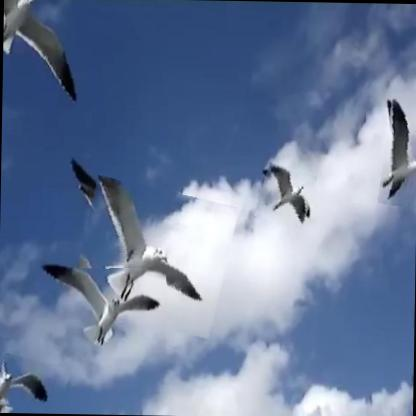bird: (73, 181, 233, 332), (1, 0, 101, 117), (50, 268, 167, 356), (380, 98, 416, 206), (0, 355, 67, 413), (257, 165, 314, 228)
